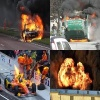fire: (57, 58, 92, 89), (20, 14, 43, 43), (14, 63, 40, 86), (62, 12, 97, 26), (69, 37, 88, 43), (20, 6, 25, 12)
